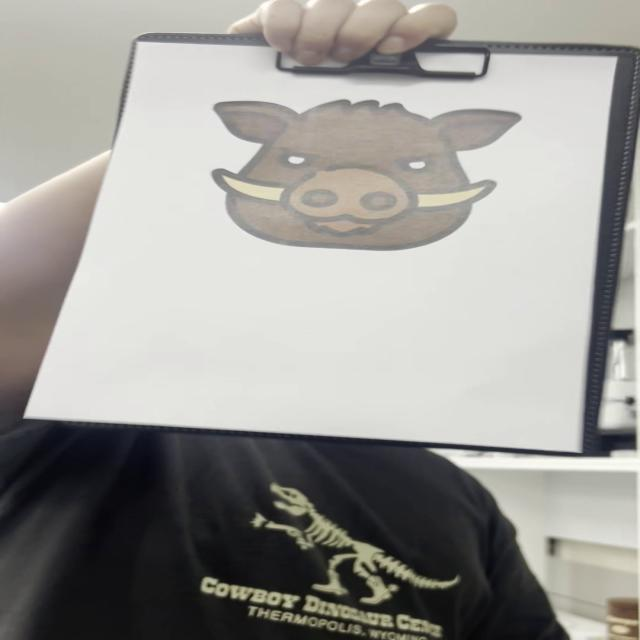animal: (208, 96, 515, 257)
